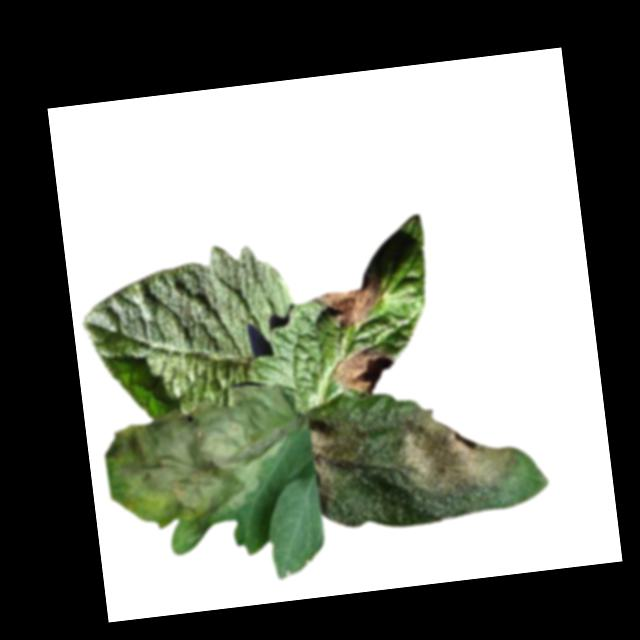Late_blight: (99, 384, 309, 562), (391, 394, 525, 524), (308, 410, 375, 520), (310, 268, 389, 332), (326, 339, 401, 399)
